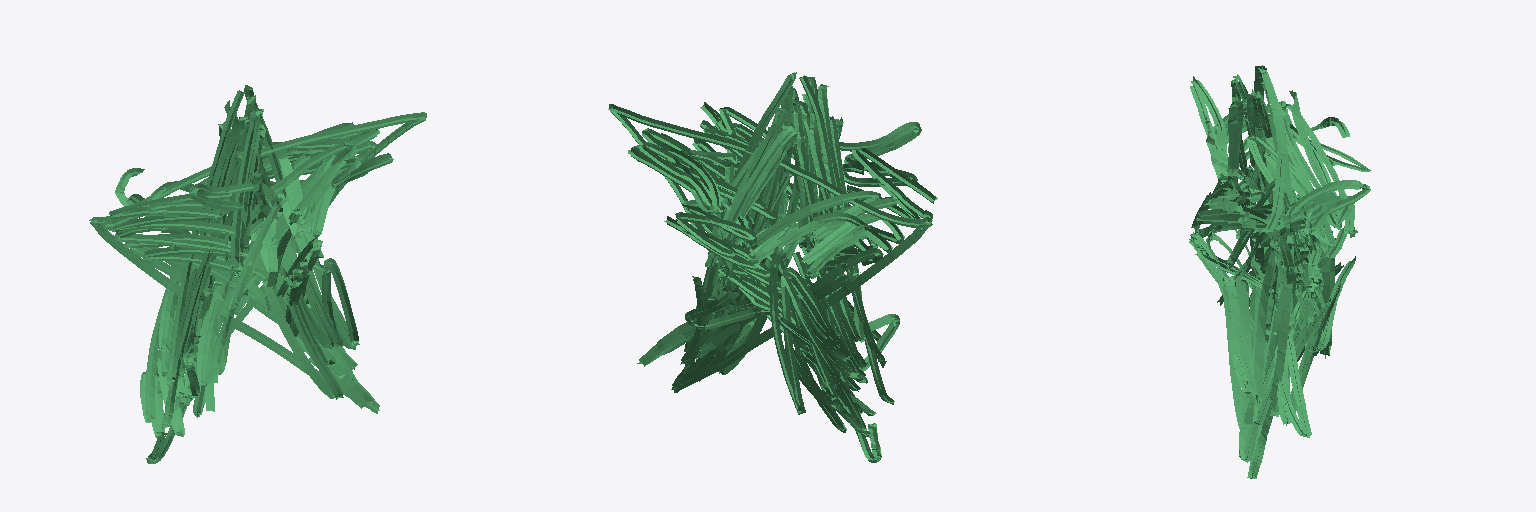
3 renders of one model, left to right at view 1: azimuth 30°, elevation 25°; view 2: azimuth 150°, elevation 25°; view 3: azimuth 270°, elevation 25°, orthographic.
Size of the model in its own units: 0.8124 by 0.8547 by 0.3906.
1 materials, 1 textured.